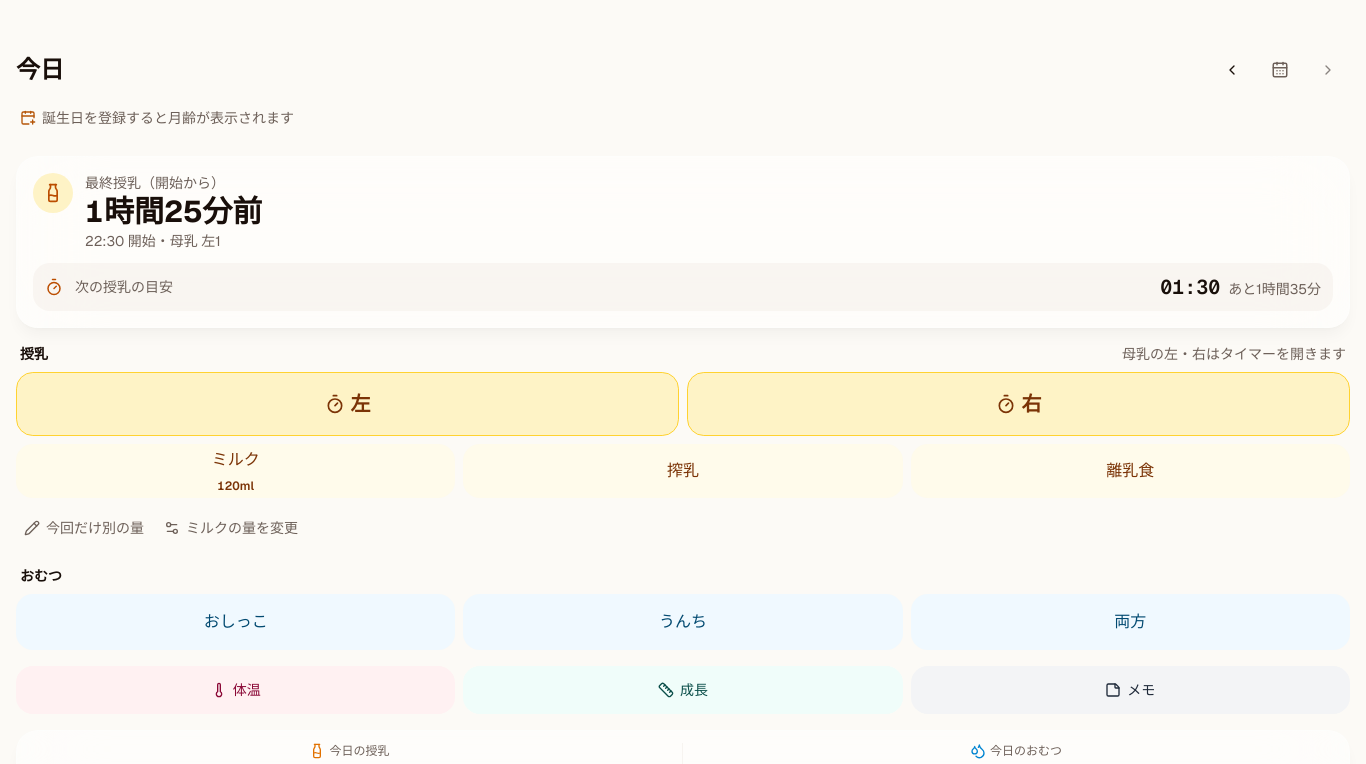
Test: BabyDashboard / 開いたまま日を跨ぐ — 最終授乳のフォールバック › DB の取り直しが失敗（圏外）でも、weeklyLogs にしか無い前夜の授乳で進む（過去日から「今日」へ戻る）
# 23:55 に前日へ移る（logs は前日の行へ入れ替わり、前夜の授乳は weeklyLogs にだけ残る）
Click the button named "前の日" at (1232, 70), box top-left (1210, 48), bottom-right (1254, 92)
Wait 360000 ms
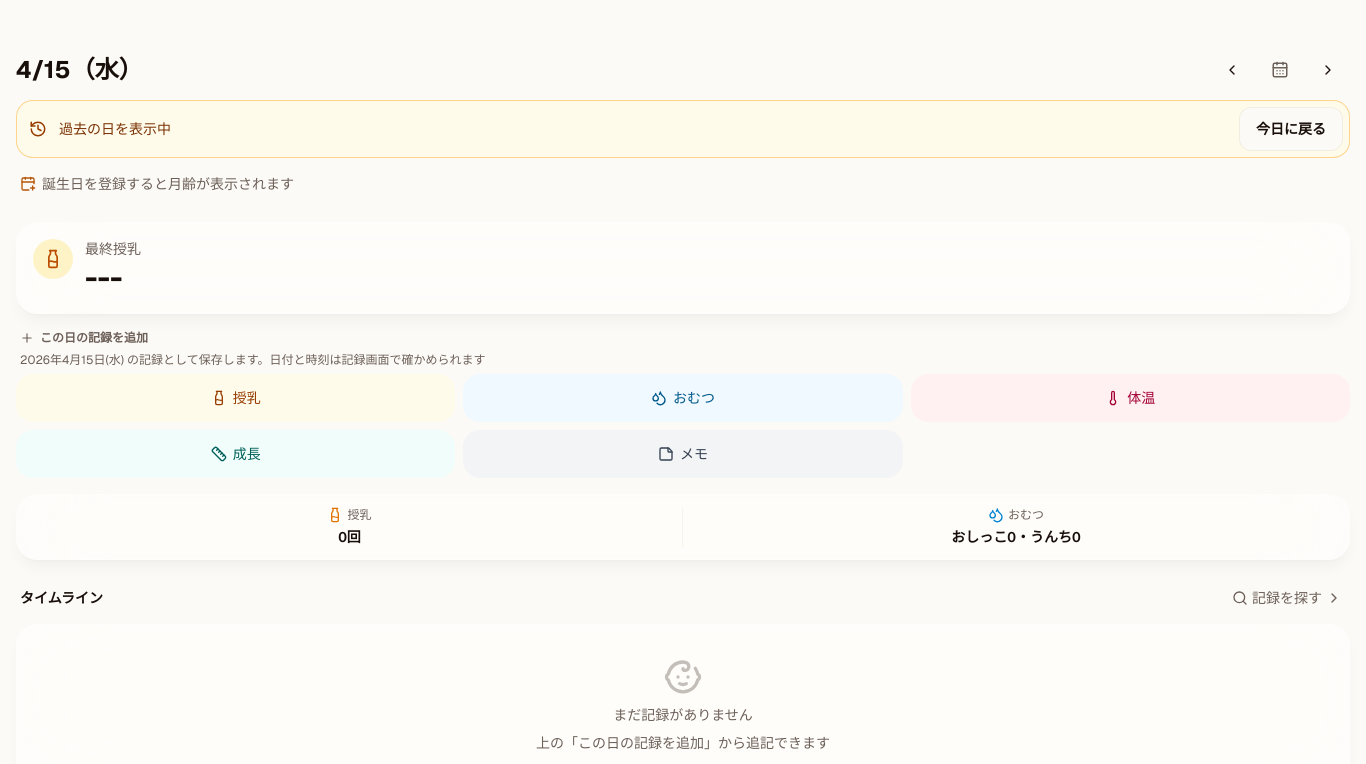
Click the button "今日に戻る" at (1291, 129), box top-left (1239, 107), bottom-right (1343, 151)
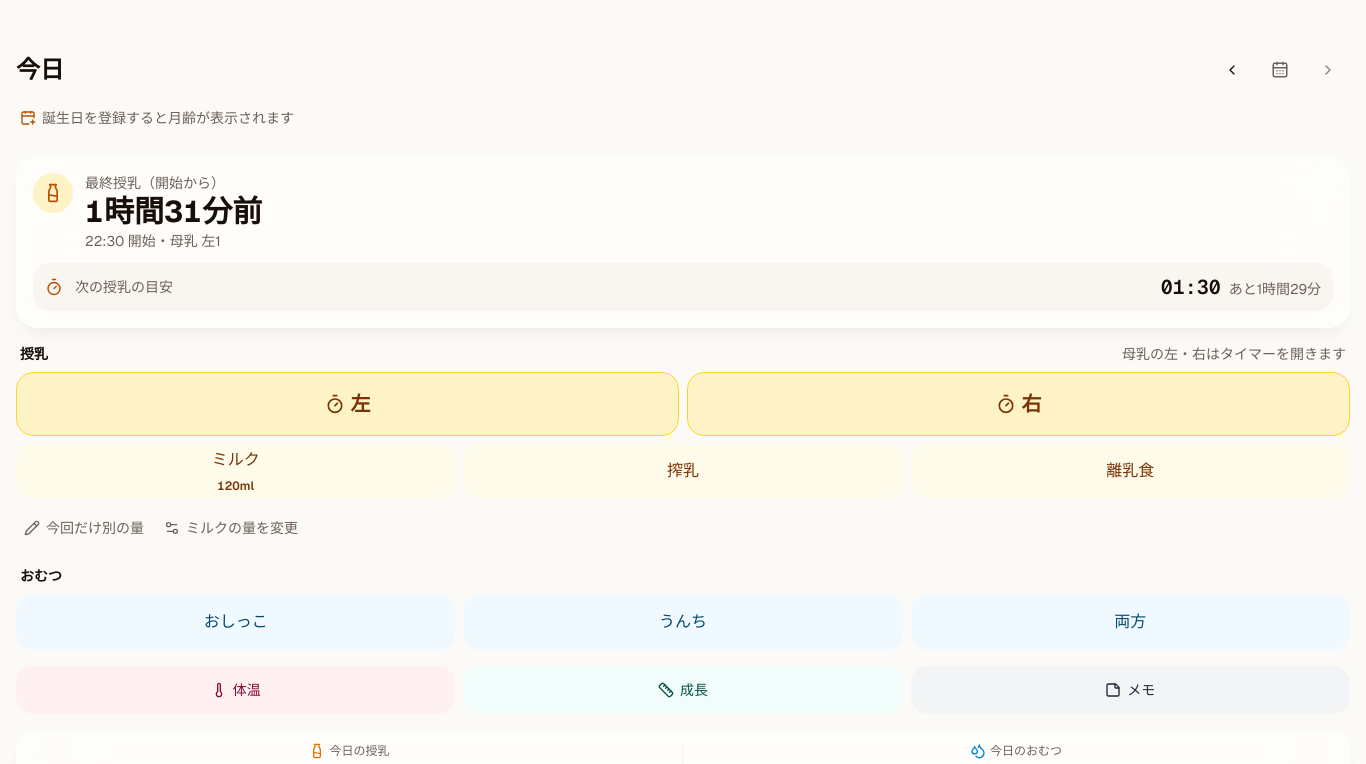
Expected: the text "1時間31分前" is shown, top-left (85, 192), bottom-right (262, 231)
